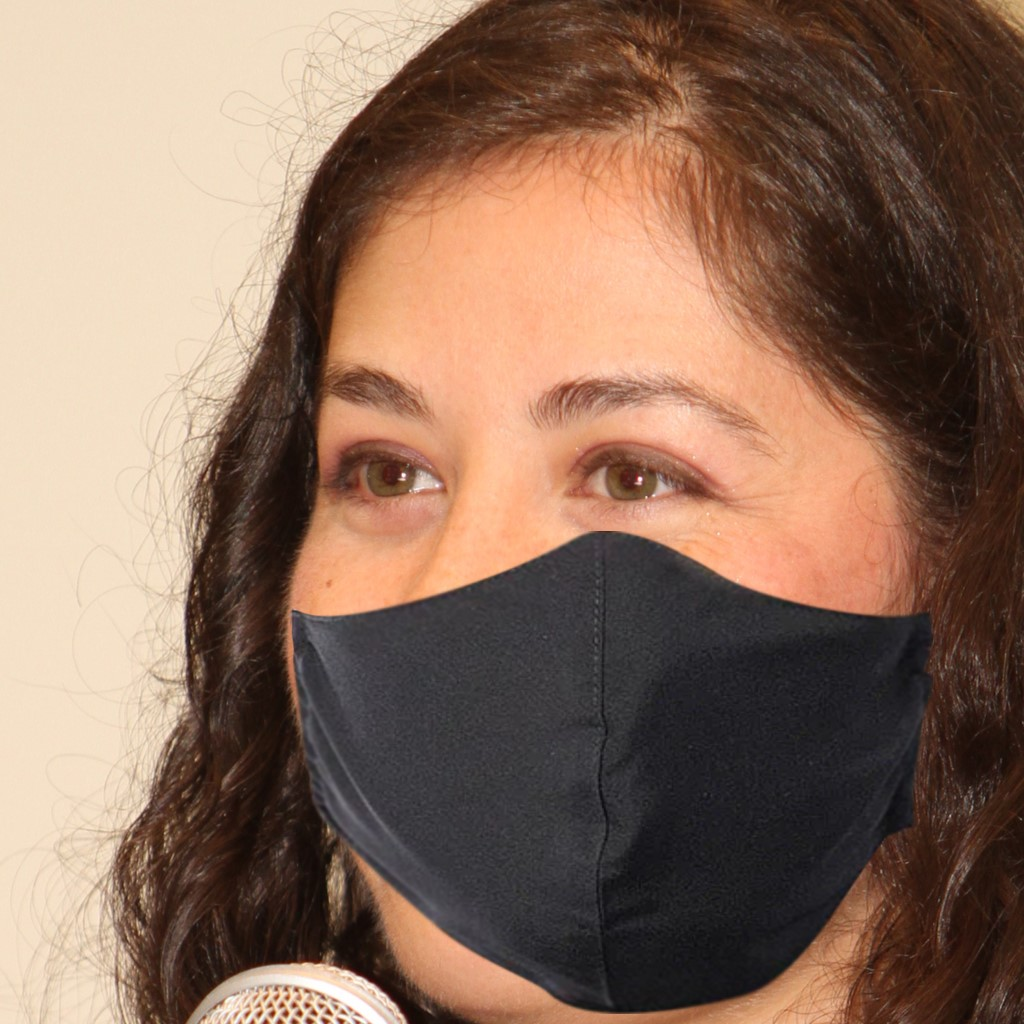con_mascara: (292, 97, 894, 985)
